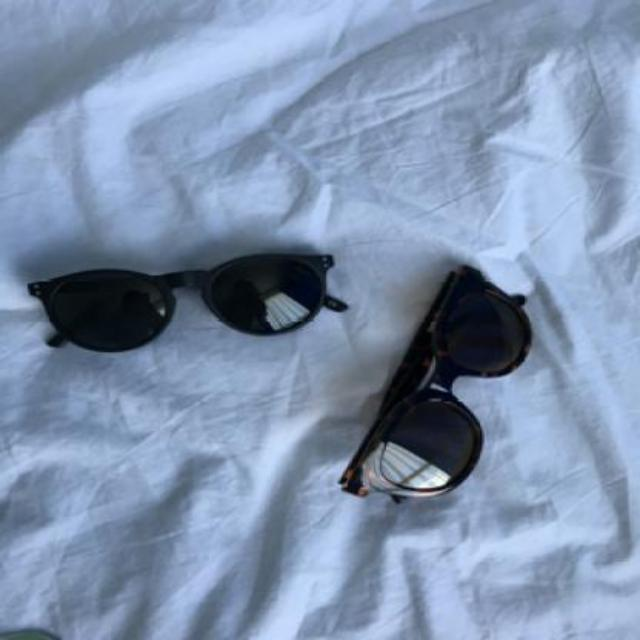sunglasses: (340, 262, 536, 502), (25, 253, 351, 351)
